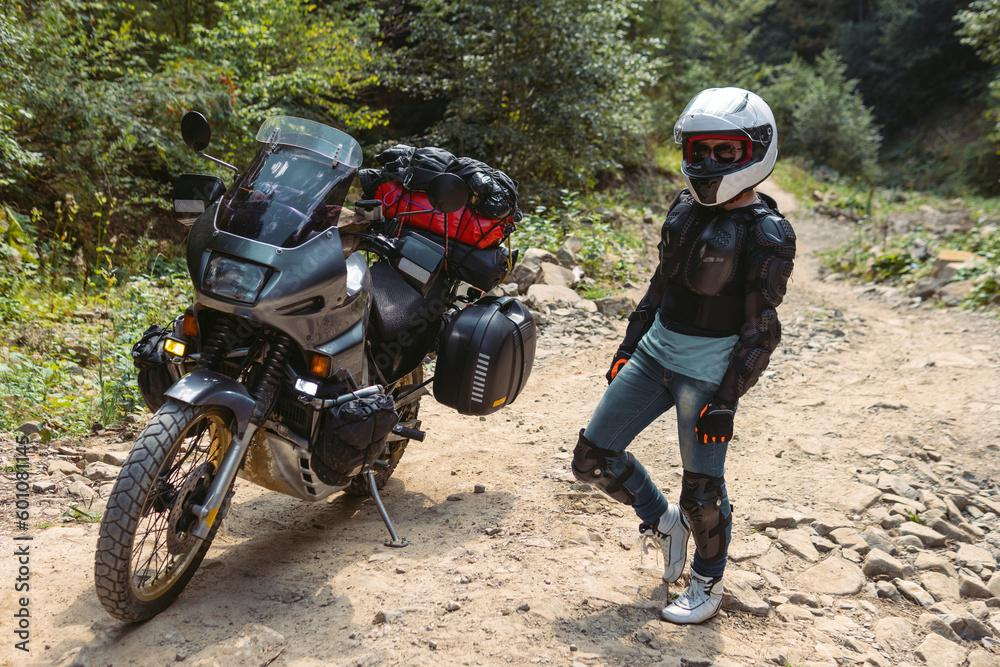helmet: (673, 85, 779, 209)
